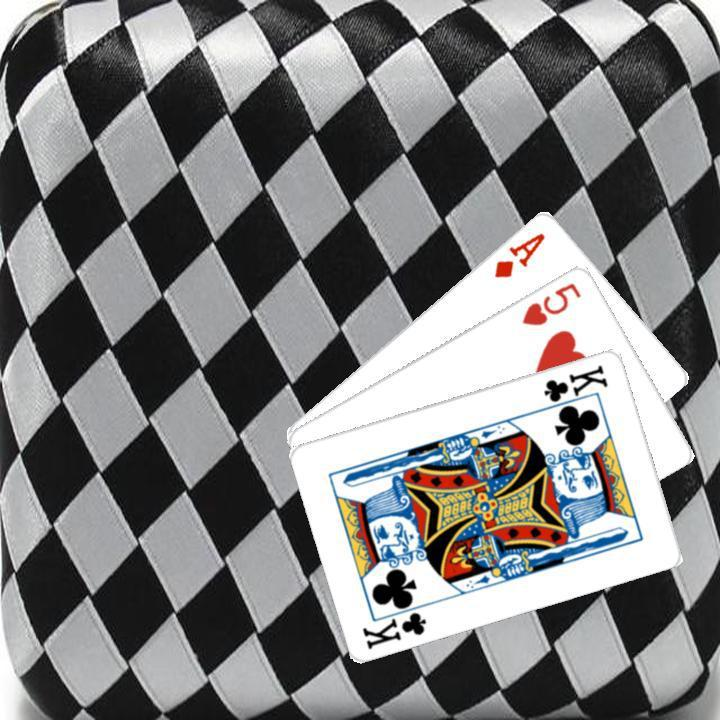5: (518, 277, 584, 328)
A: (489, 227, 548, 280)
K: (358, 597, 432, 651), (538, 360, 610, 413)
